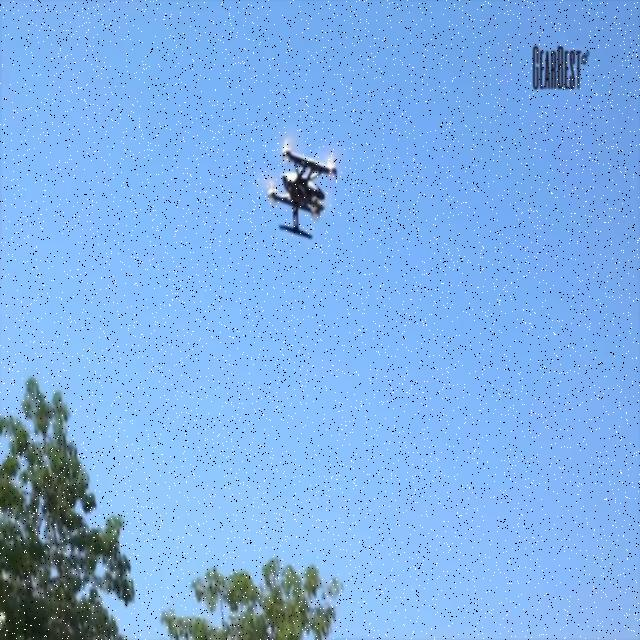UAV: (268, 139, 337, 240)
